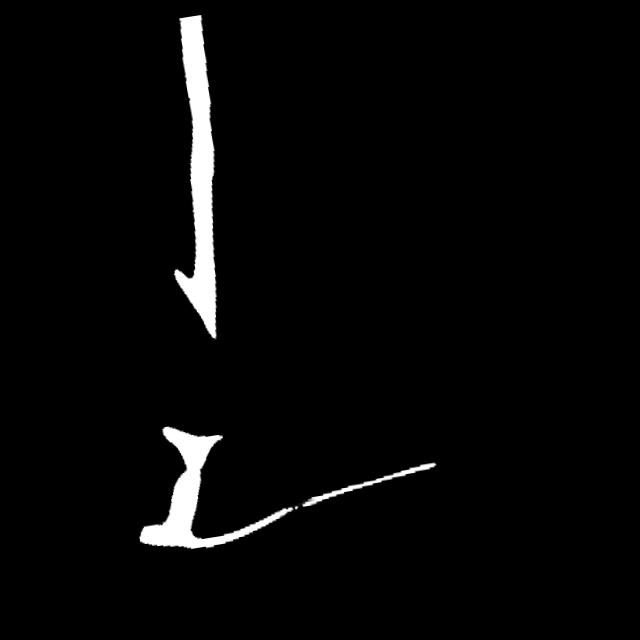inf: (282, 490, 314, 522)
